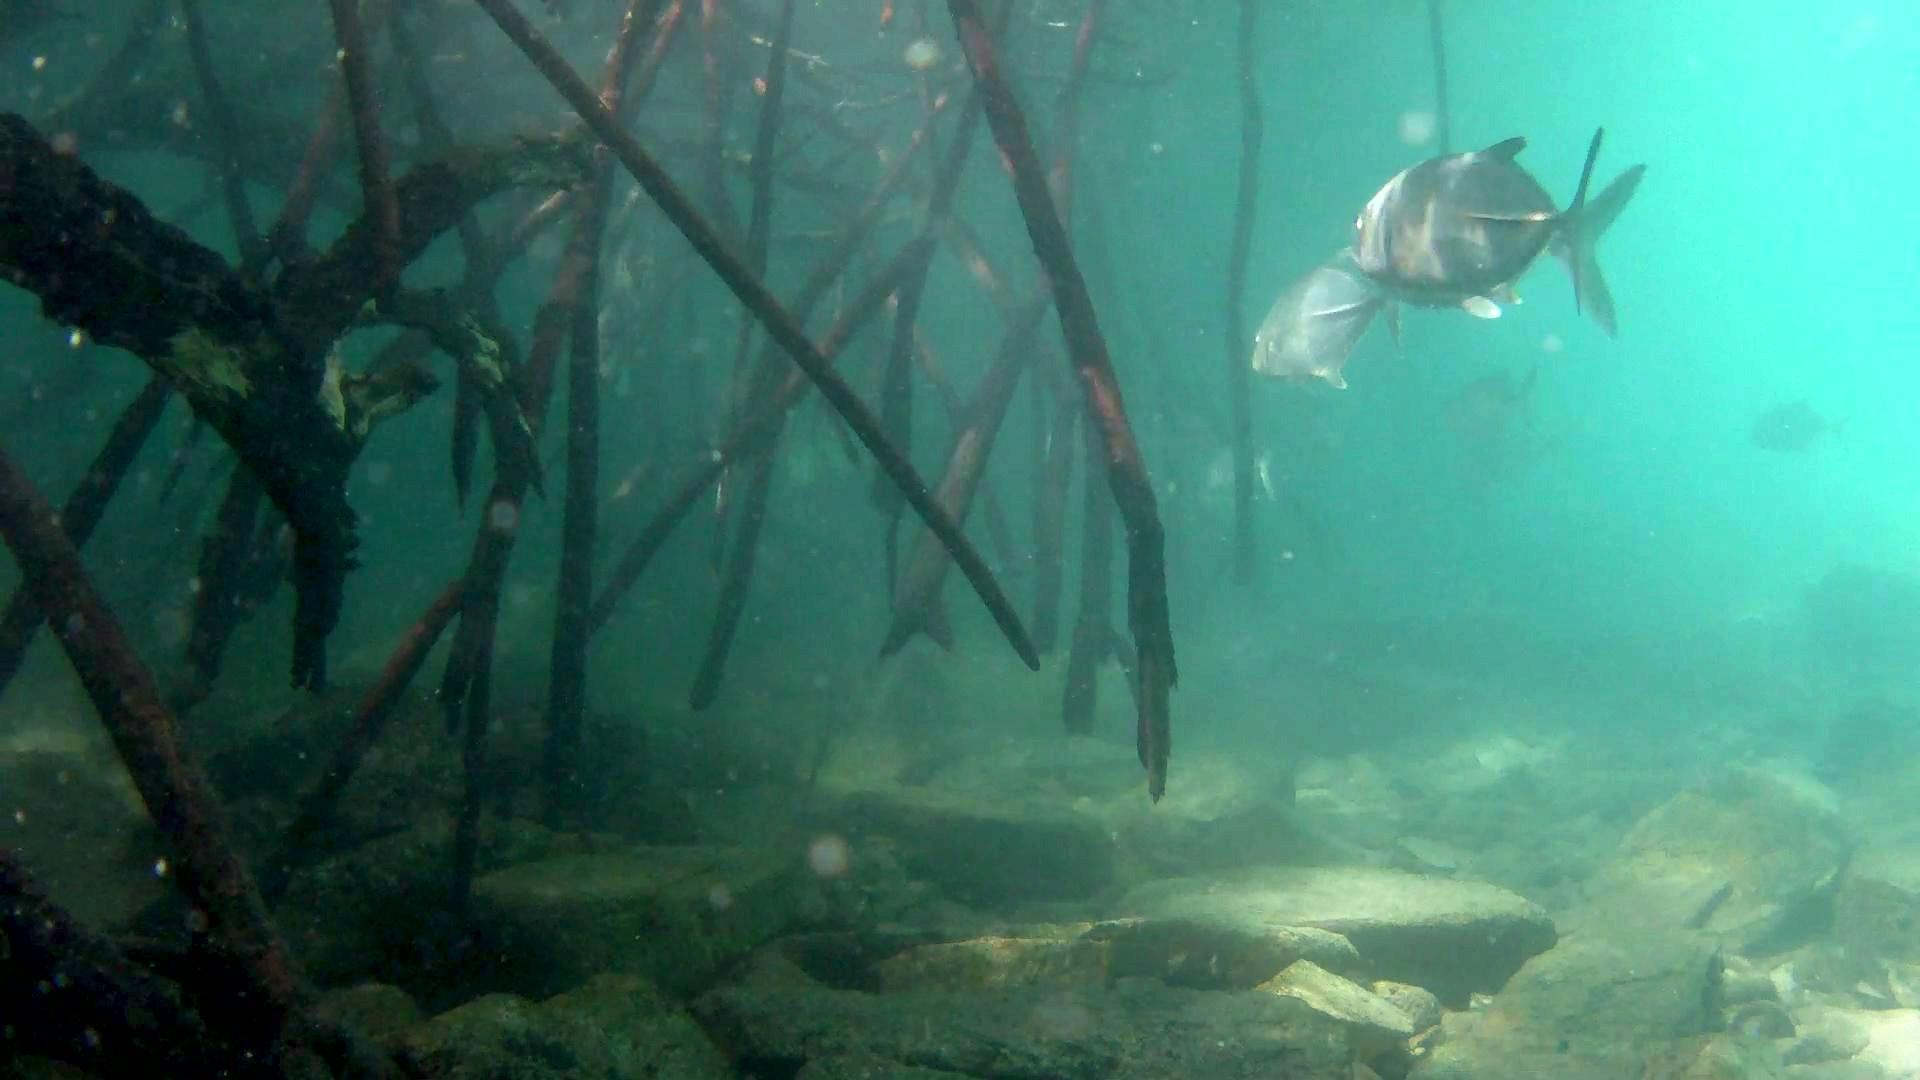caranx: (1333, 118, 1618, 329)
